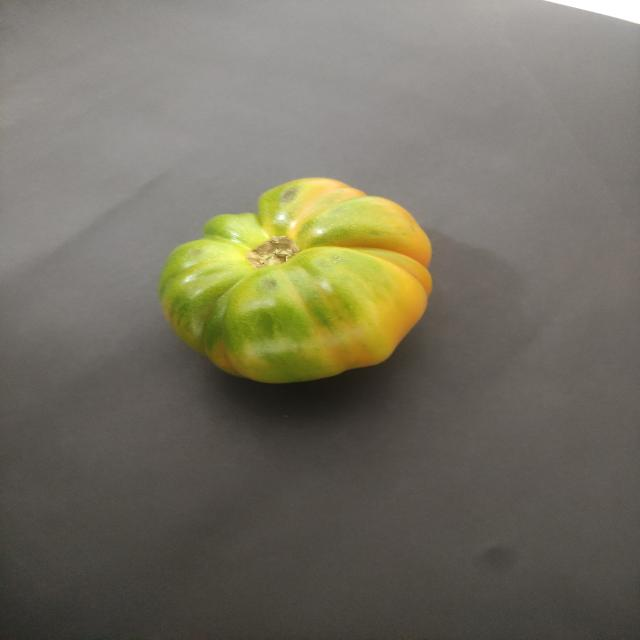yesil: (149, 156, 461, 392)
